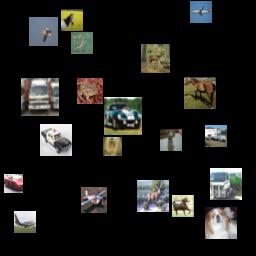airplane: (81, 187, 107, 213), (14, 211, 36, 233), (190, 1, 212, 23)
automobile: (104, 97, 142, 135), (40, 124, 72, 156), (4, 174, 23, 193)
bird: (29, 17, 58, 46), (71, 32, 93, 54)
deer: (137, 180, 169, 212), (141, 44, 170, 73)
dog: (205, 207, 237, 239), (160, 129, 182, 151), (103, 137, 122, 156)
frog: (77, 78, 103, 104)
truck: (21, 78, 59, 116), (210, 168, 242, 200), (205, 125, 227, 147)
